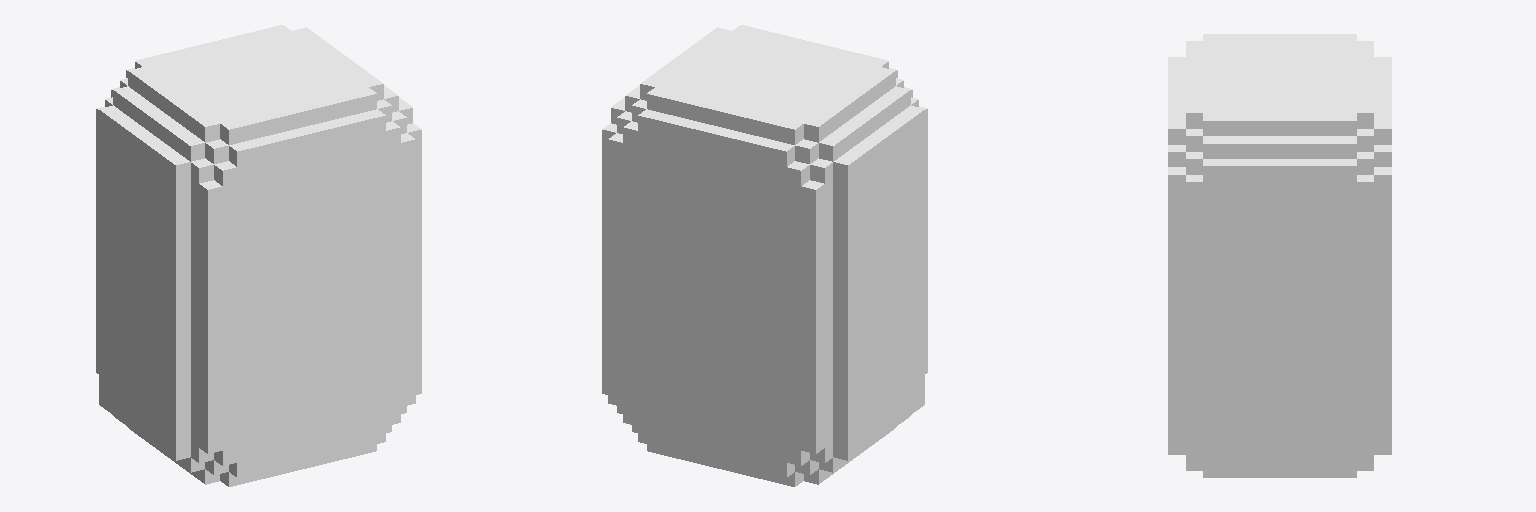
Rendered from Guard3_HandL.obj.
3 views of the same model, side by side, from view 1: azimuth 30°, elevation 25°; view 2: azimuth 150°, elevation 25°; view 3: azimuth 270°, elevation 25° (orthographic).
Size of the model in its own units: 16 by 23 by 13.